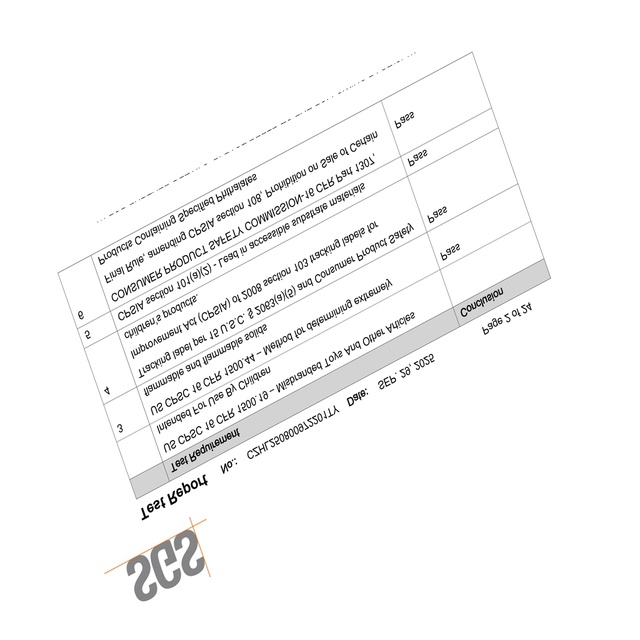sgs: (126, 528, 206, 602)
